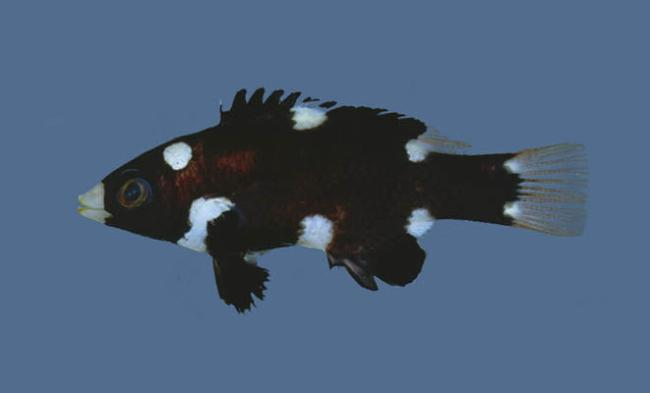fish: (78, 87, 592, 316)
